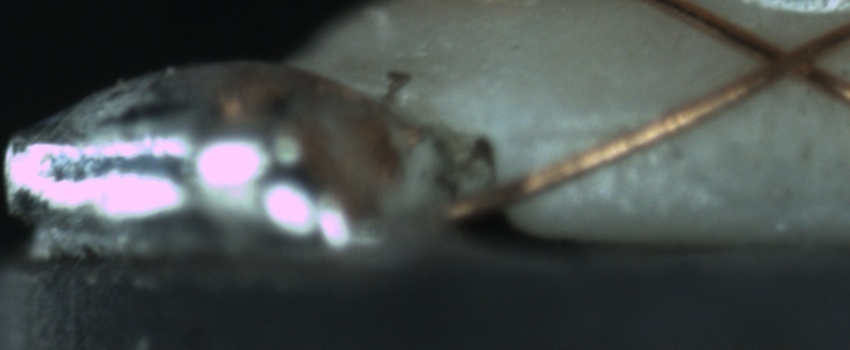CL: (740, 26, 838, 93)
DL: (516, 99, 645, 162)
